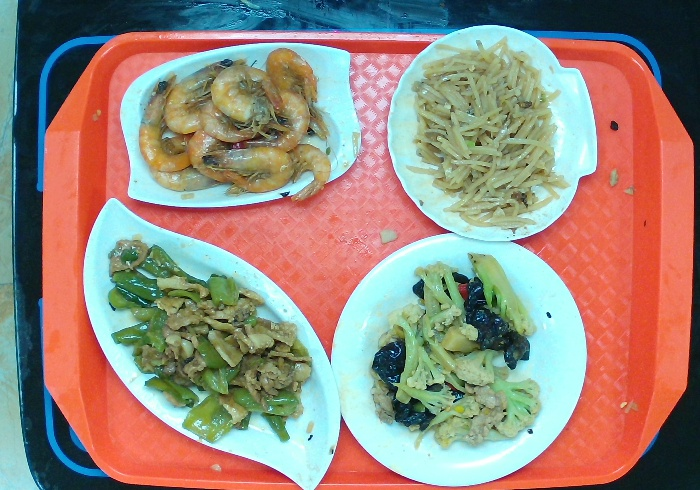RJxy-Bei_Ke_Wan: (378, 21, 599, 247)
RJxy-Jian_Jiao_Fang_Die: (109, 38, 370, 220)
RJxy-Jian_Jiao_Pan: (73, 193, 347, 489)
RJxy-Yuan_Pan: (325, 222, 590, 490)
